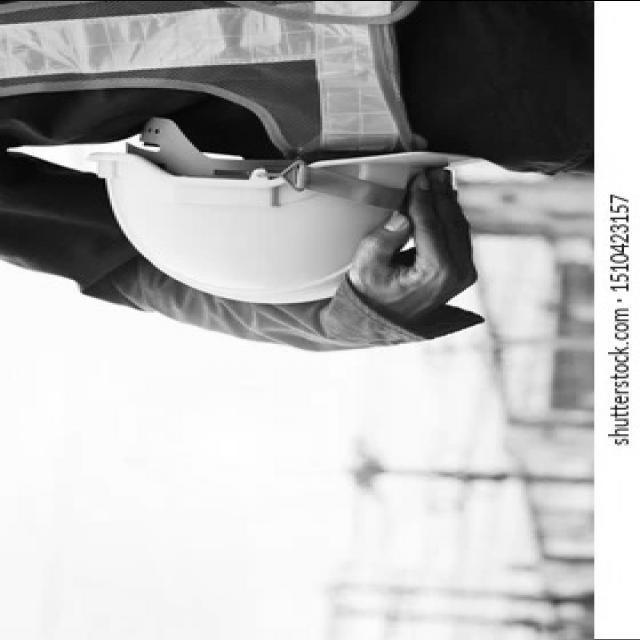safety_helmet: (37, 118, 453, 304)
